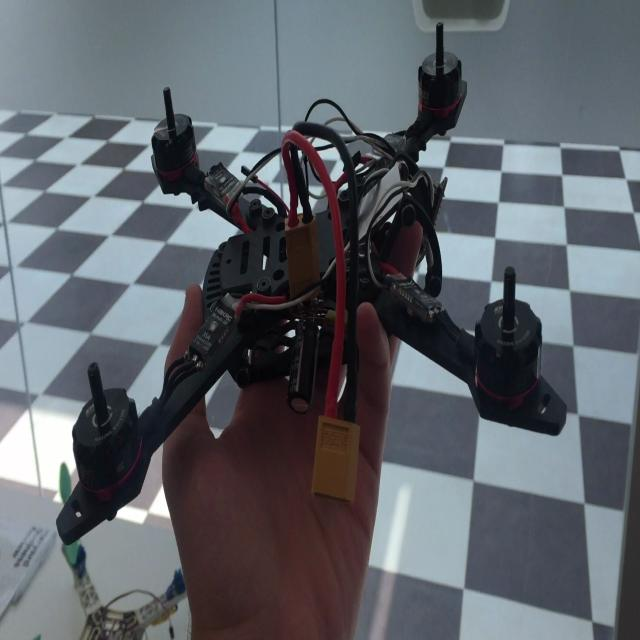drone: (68, 52, 570, 495)
